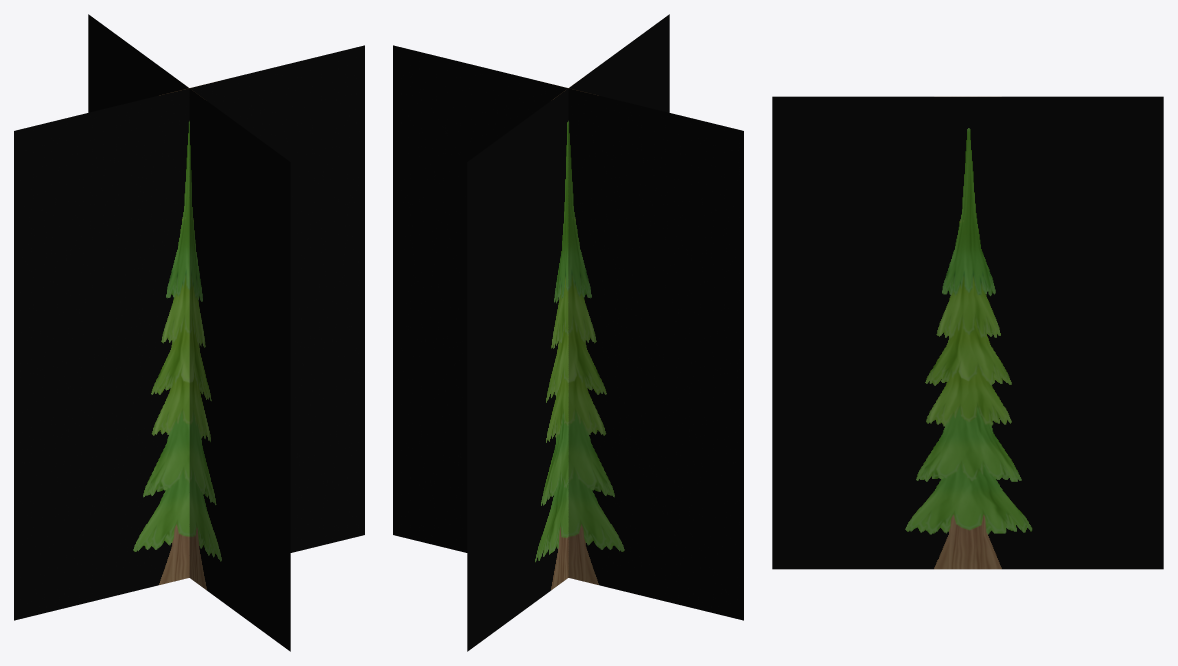
Rendered from tree_lod3.glb.
3 views of the same model, side by side, from view 1: azimuth 30°, elevation 25°; view 2: azimuth 150°, elevation 25°; view 3: azimuth 270°, elevation 25° (orthographic). The views are drawn at different scales.
Visible parts, largest first — view 1: Plane, Plane.001; view 2: Plane, Plane.001; view 3: Plane.001.
Part boxes in pixels (x1,y1,x2,y2): Plane: [14, 45, 364, 620]; Plane.001: [88, 14, 290, 651]; Plane: [393, 45, 743, 620]; Plane.001: [467, 14, 669, 651]; Plane.001: [772, 96, 1163, 569].
Size of the model in its own units: 300 by 400 by 300.
Materials: 1 (1 with a texture image).
